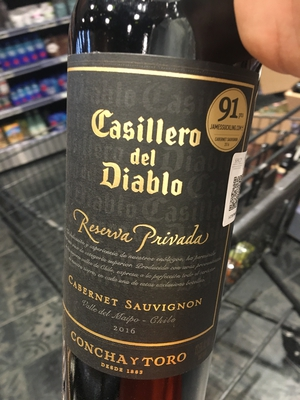casillero del diablo reserva privada cabernet sauvignon: (53, 14, 259, 395)
